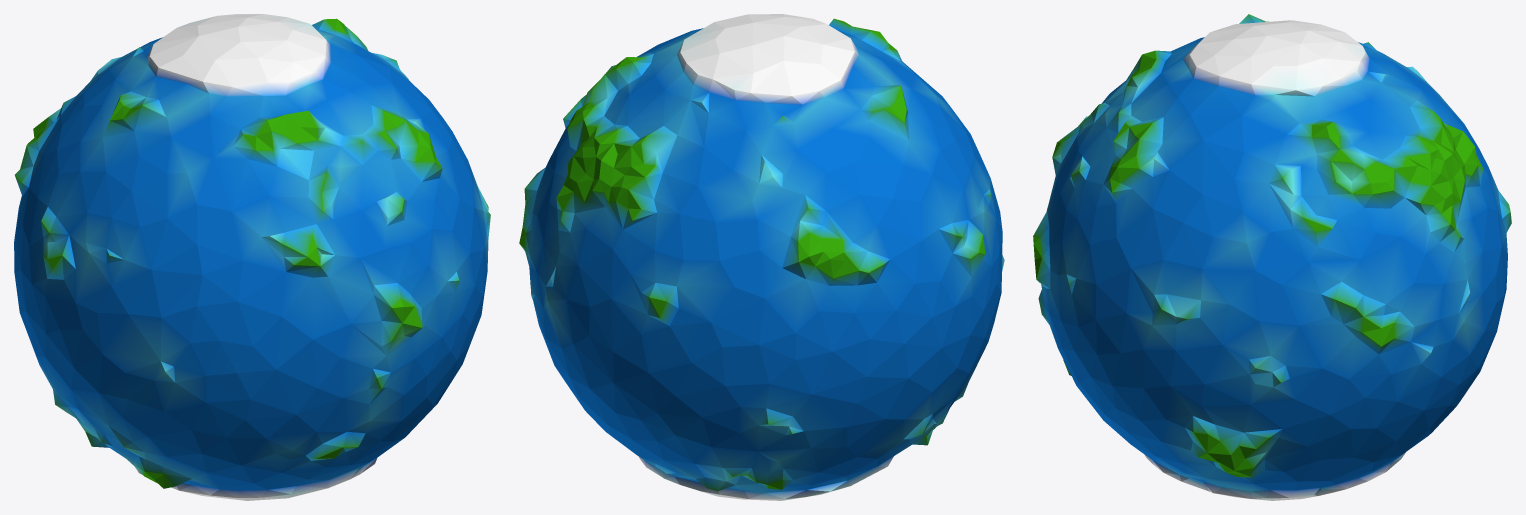
File: planet_74.fbx
3 views of the same model, side by side, from view 1: azimuth 30°, elevation 25°; view 2: azimuth 150°, elevation 25°; view 3: azimuth 270°, elevation 25° (orthographic).
Visible parts, largest first — view 1: file1; view 2: file1; view 3: file1.
Part boxes in pixels (x1=…): file1: x1=14, y1=14, x2=490, y2=500; file1: x1=519, y1=14, x2=1004, y2=500; file1: x1=1033, y1=14, x2=1511, y2=500.
Size of the model in its own units: 2.05 by 2.06 by 2.05.
